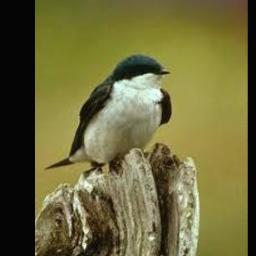Swallow: (46, 54, 171, 171)
